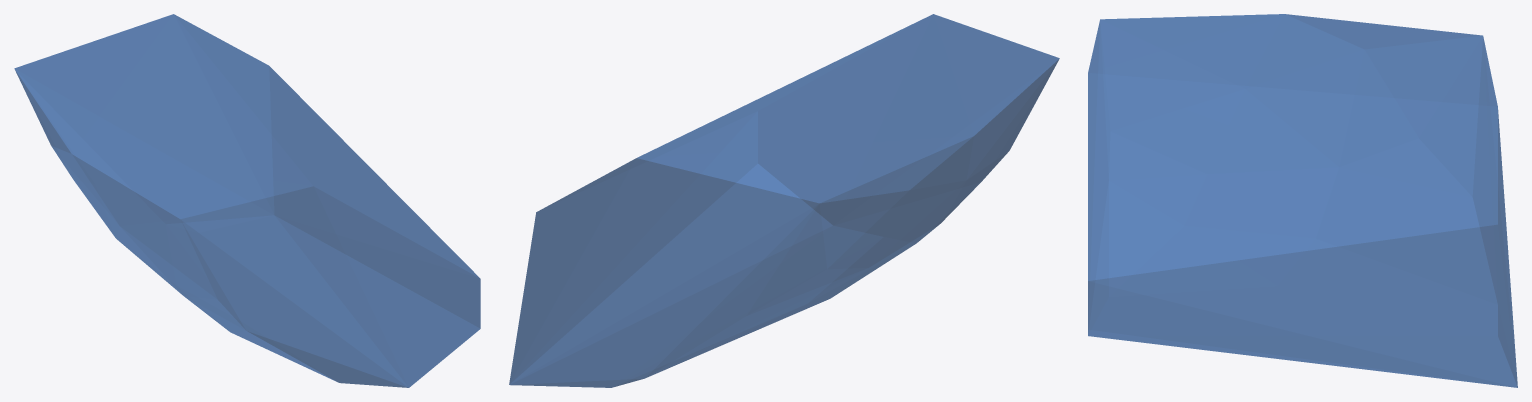
3 renders of one model, left to right at view 1: azimuth 30°, elevation 25°; view 2: azimuth 150°, elevation 25°; view 3: azimuth 270°, elevation 25°, orthographic. The views are drawn at different scales.
Visible parts, largest first — view 1: Shape_IndexedFaceSet.185_Shape_IndexedFaceSet.226; view 2: Shape_IndexedFaceSet.185_Shape_IndexedFaceSet.226; view 3: Shape_IndexedFaceSet.185_Shape_IndexedFaceSet.226.
Part boxes in pixels (x1=…): Shape_IndexedFaceSet.185_Shape_IndexedFaceSet.226: x1=14, y1=14, x2=480, y2=387; Shape_IndexedFaceSet.185_Shape_IndexedFaceSet.226: x1=509, y1=14, x2=1059, y2=387; Shape_IndexedFaceSet.185_Shape_IndexedFaceSet.226: x1=1088, y1=14, x2=1517, y2=387.
Size of the model in its own units: 0.311 by 0.2171 by 0.3699.
